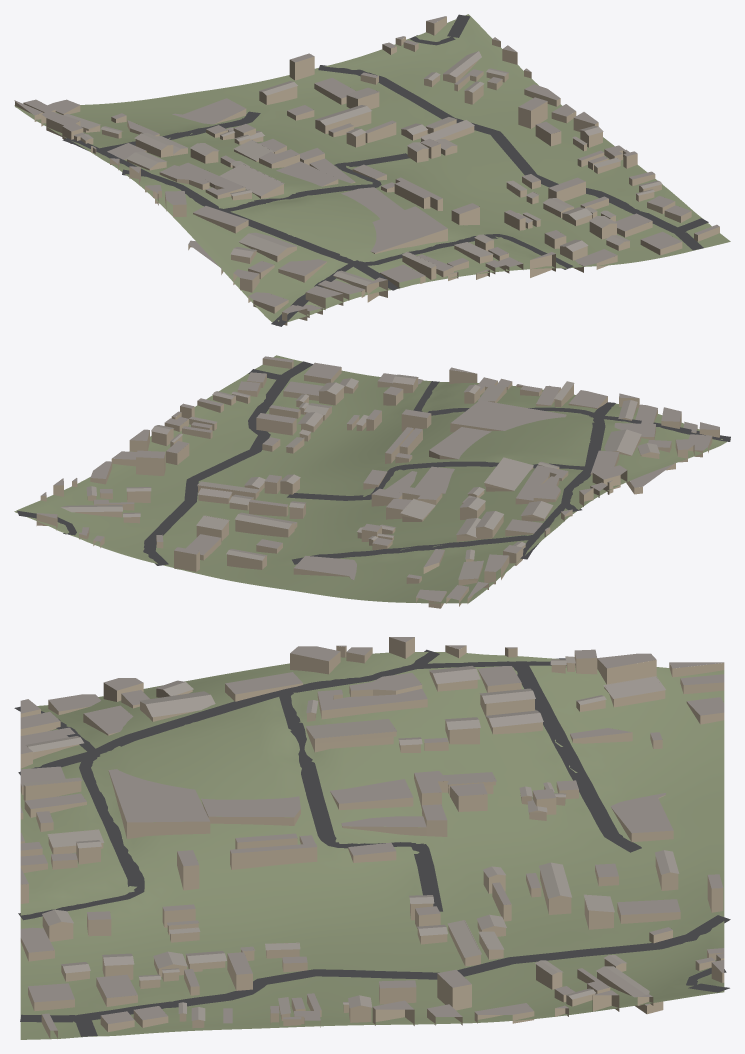
3 renders of one model, top to bottom at view 1: azimuth 30°, elevation 25°; view 2: azimuth 150°, elevation 25°; view 3: azimuth 270°, elevation 25°, orthographic. The views are drawn at different scales.
Parts seen in each view (by area): view 1: ground, walls, roofs, sheetRoofs, road; view 2: ground, walls, roofs, sheetRoofs, road; view 3: ground, walls, roofs, road, sheetRoofs.
Boxes of the visible parts, x1,y1,x2,y2 form: ground: [14, 14, 730, 325]; walls: [15, 17, 719, 325]; roofs: [14, 16, 719, 313]; sheetRoofs: [64, 51, 662, 286]; road: [62, 14, 708, 326]; ground: [14, 355, 726, 603]; walls: [36, 358, 719, 608]; roofs: [37, 356, 719, 601]; sheetRoofs: [60, 374, 659, 579]; road: [17, 361, 730, 565]; ground: [20, 652, 724, 1039]; walls: [20, 637, 724, 1038]; roofs: [20, 637, 724, 1030]; road: [14, 649, 730, 1036]; sheetRoofs: [23, 656, 679, 1020].
Bounding box in the file's own units: 253 × 41.4 × 255.
